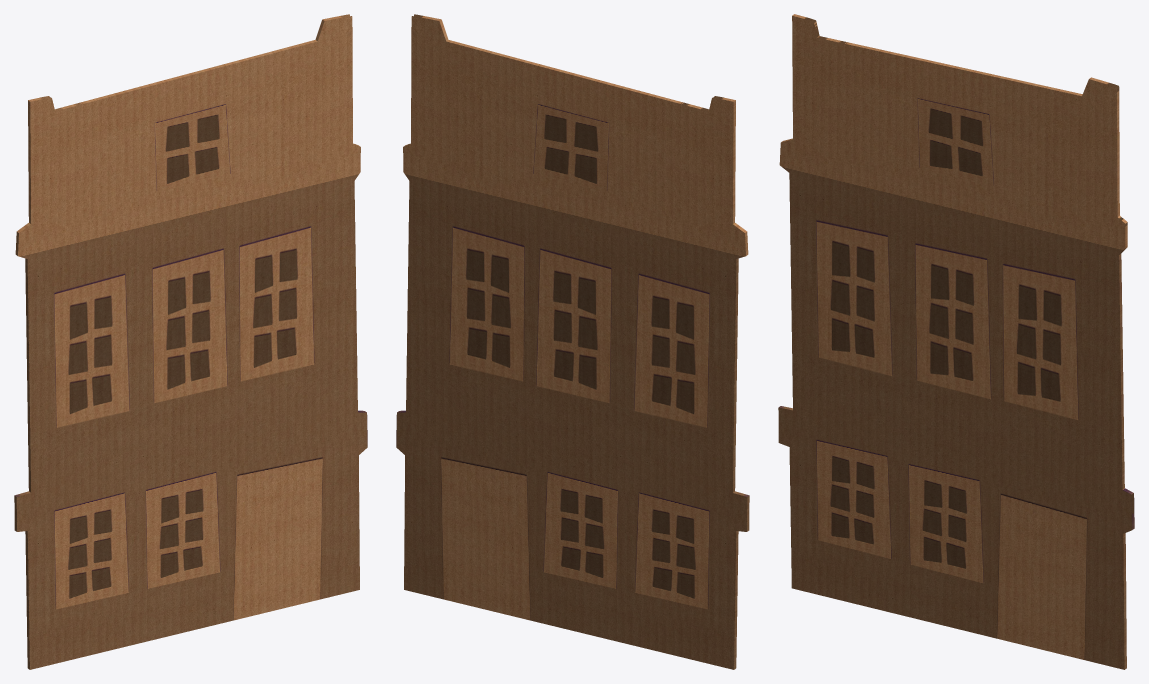
File: house_3.FBX
3 views of the same model, side by side, from view 1: azimuth 30°, elevation 25°; view 2: azimuth 150°, elevation 25°; view 3: azimuth 330°, elevation 25° (orthographic).
Parts seen in each view (by area): view 1: house_3; view 2: house_3; view 3: house_3.
Part boxes in pixels (bbox=[...]): house_3: bbox=[14, 14, 367, 669]; house_3: bbox=[396, 14, 749, 669]; house_3: bbox=[778, 14, 1134, 669].
Size of the model in its own units: 618 by 972 by 7.
Materials: 1 (1 with a texture image).
